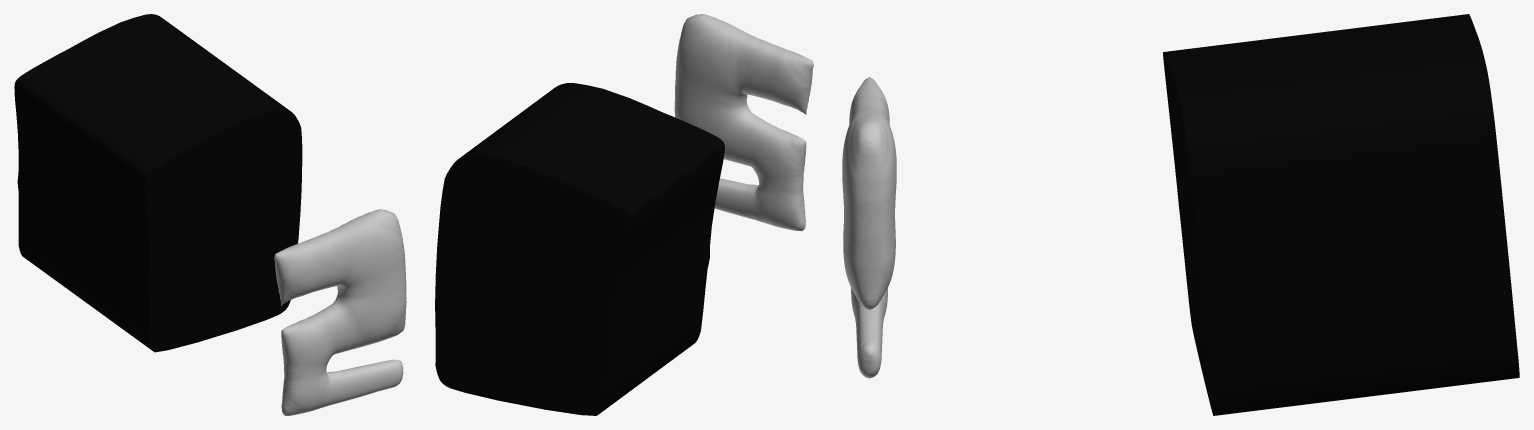
Rendered from num2.glb.
3 views of the same model, side by side, from view 1: azimuth 30°, elevation 25°; view 2: azimuth 150°, elevation 25°; view 3: azimuth 270°, elevation 25° (orthographic). The views are drawn at different scales.
Visible parts, largest first — view 1: mesh_id32, mesh_id30; view 2: mesh_id32, mesh_id30; view 3: mesh_id32, mesh_id30.
Boxes of the visible parts, box(x1,y1,x2,y2) form: mesh_id32: box(14, 14, 302, 352); mesh_id30: box(274, 209, 406, 415); mesh_id32: box(435, 83, 724, 415); mesh_id30: box(674, 14, 813, 231); mesh_id32: box(1163, 14, 1519, 415); mesh_id30: box(842, 77, 896, 378).
Bounding box in the file's own units: 0.0972 × 0.1177 × 0.2195.
2 materials, 2 textured.
